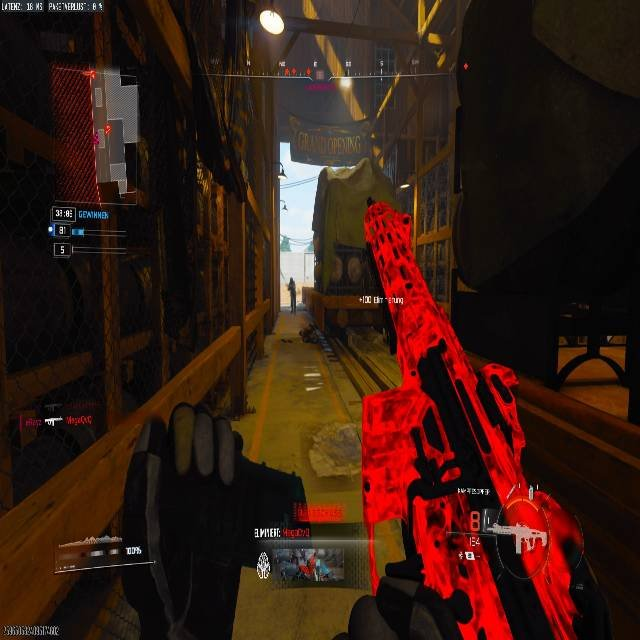player: (287, 277, 296, 301)
